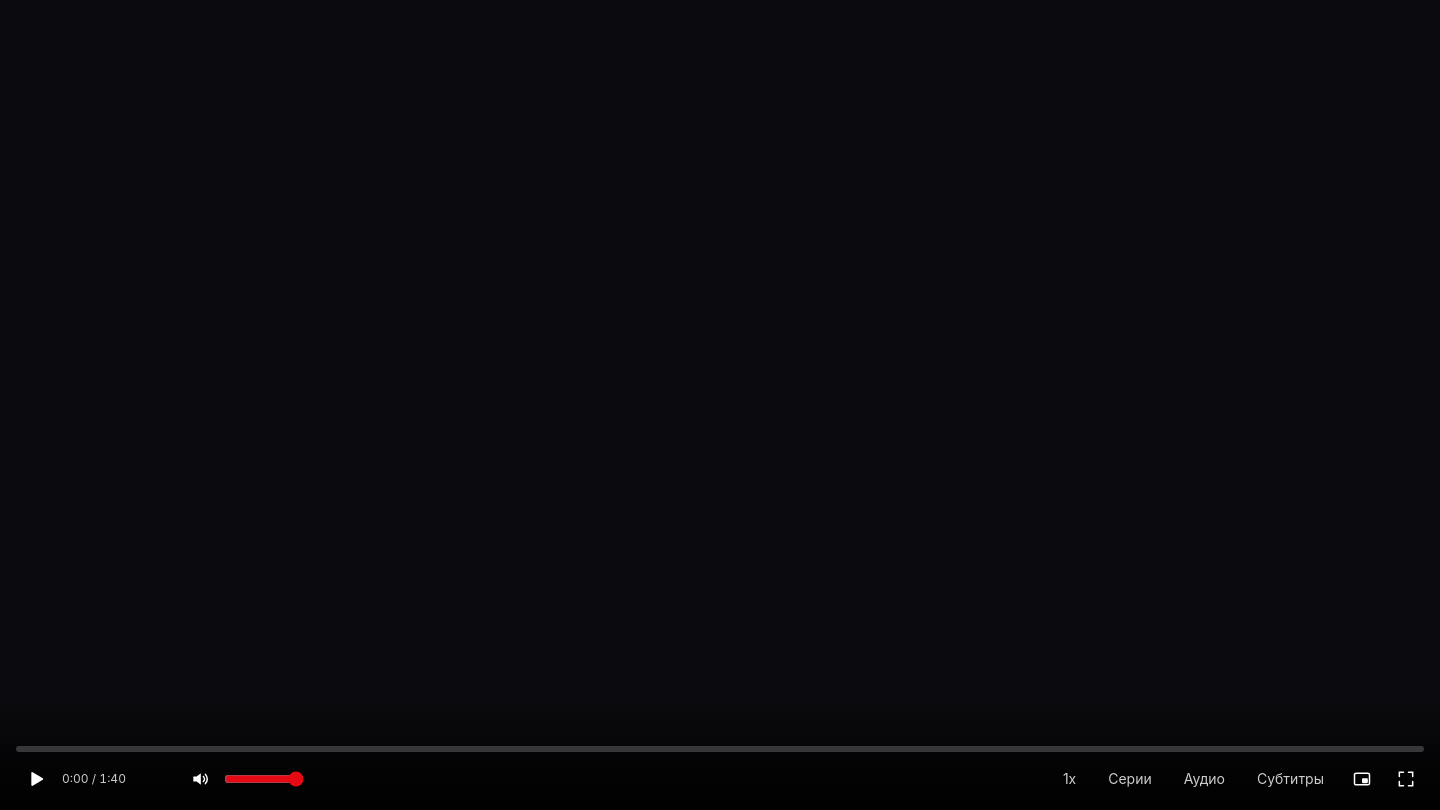
Test: меню выбора серии в плеере › сезон переключается табом
Click the button with test id "menu-серии" at (1130, 779), box [1096, 763, 1164, 795]
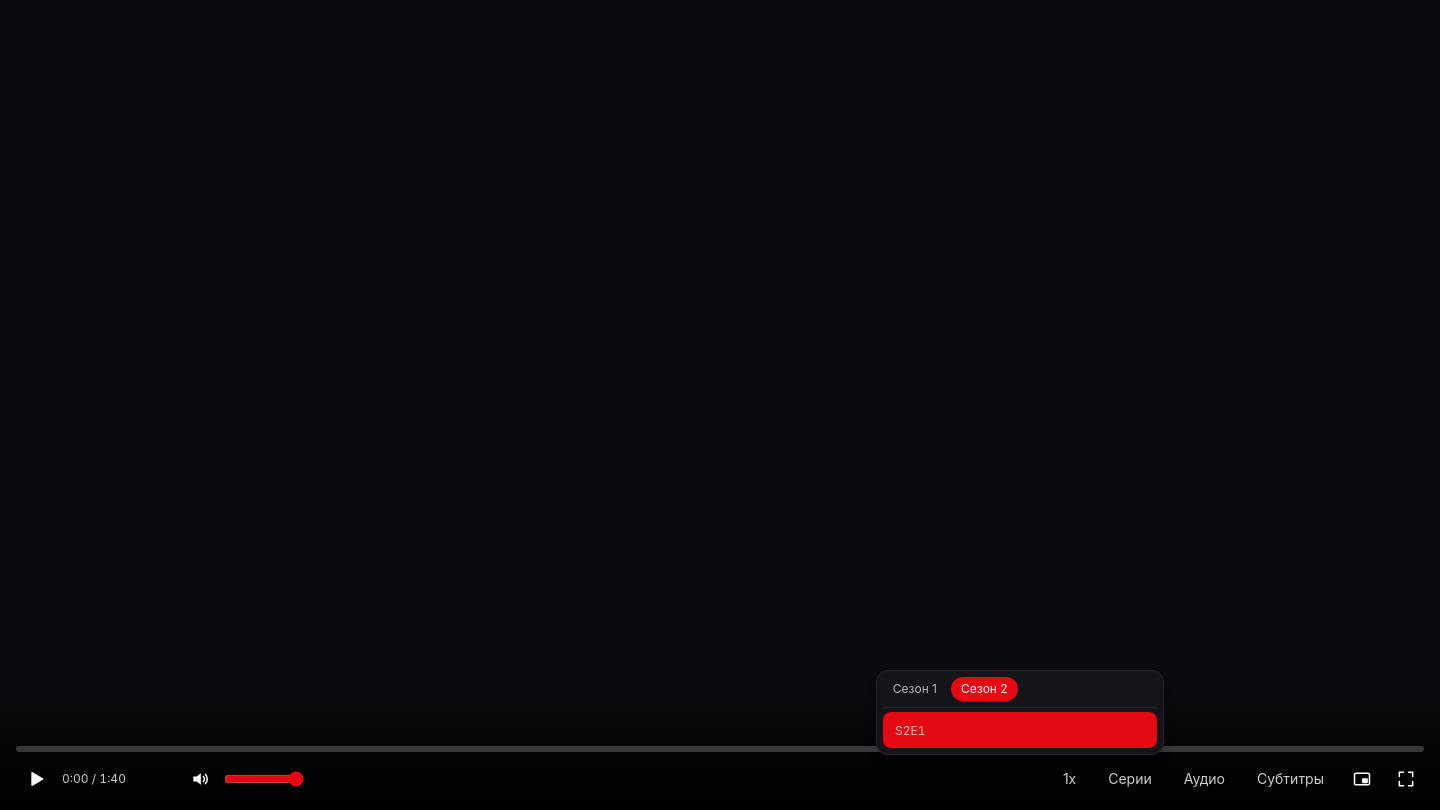
Expected: the elements with test id "player-season-tab" read "Сезон 1", "Сезон 2", in this order
Click the button with test id "player-season-tab" showing "Сезон 1" at (915, 689), box [883, 677, 947, 701]
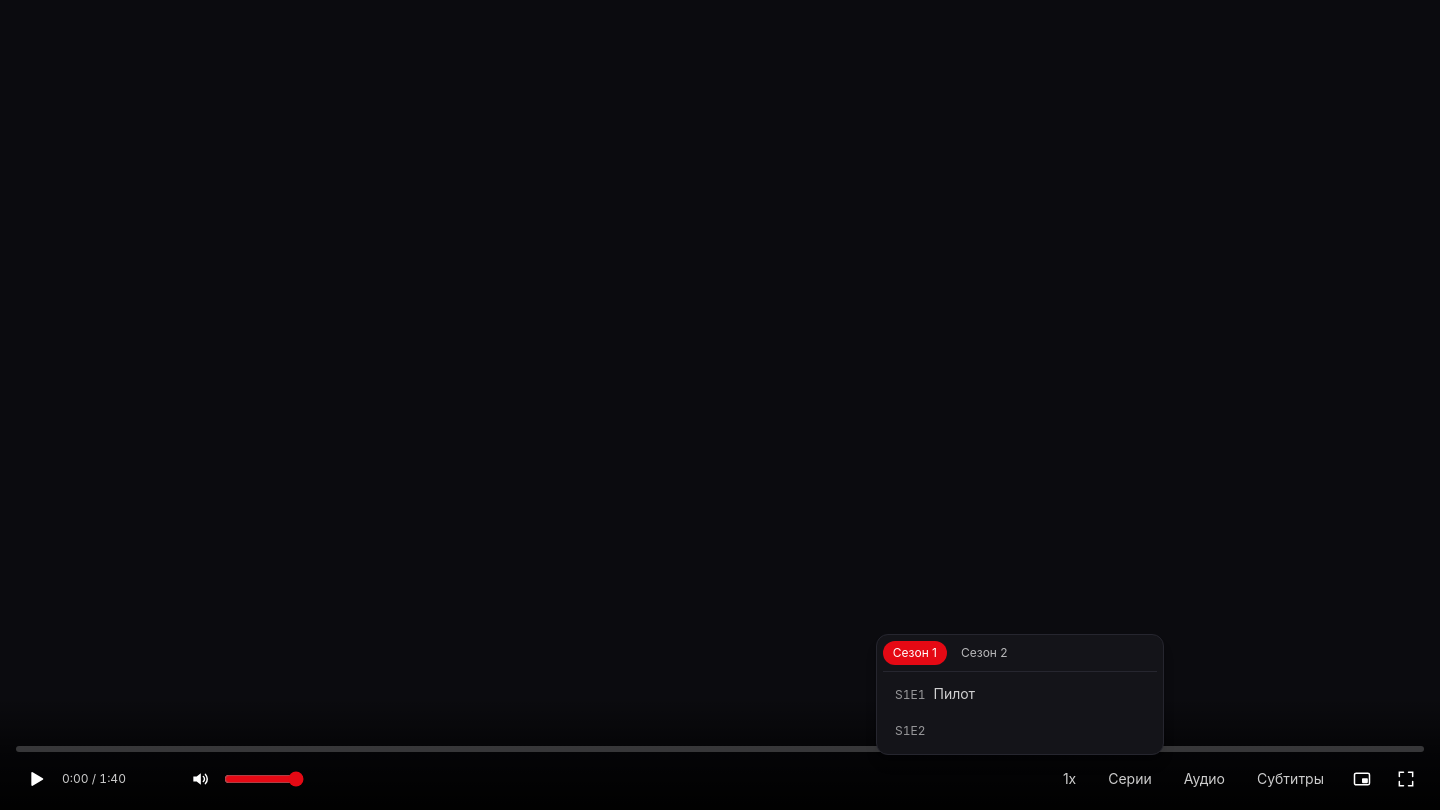
Expected: the button with test id "player-episode-101" is shown, [883, 676, 1157, 712]
Expected: the button with test id "player-episode-201" is gone
